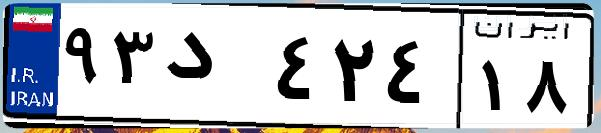1: (475, 38, 525, 113)
2: (330, 28, 385, 110)
3: (110, 28, 158, 98)
4: (270, 28, 330, 110), (385, 28, 445, 110)
8: (525, 38, 570, 115)
9: (57, 26, 110, 100)
د: (158, 20, 270, 120)
